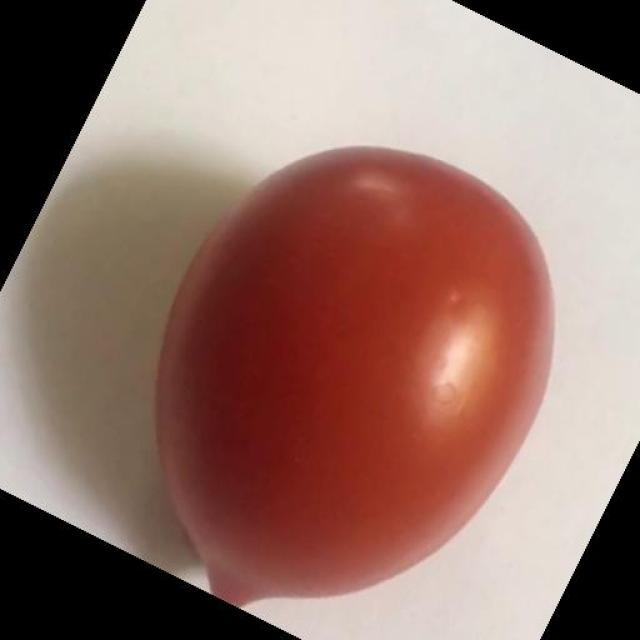tomato: (153, 146, 557, 610)
